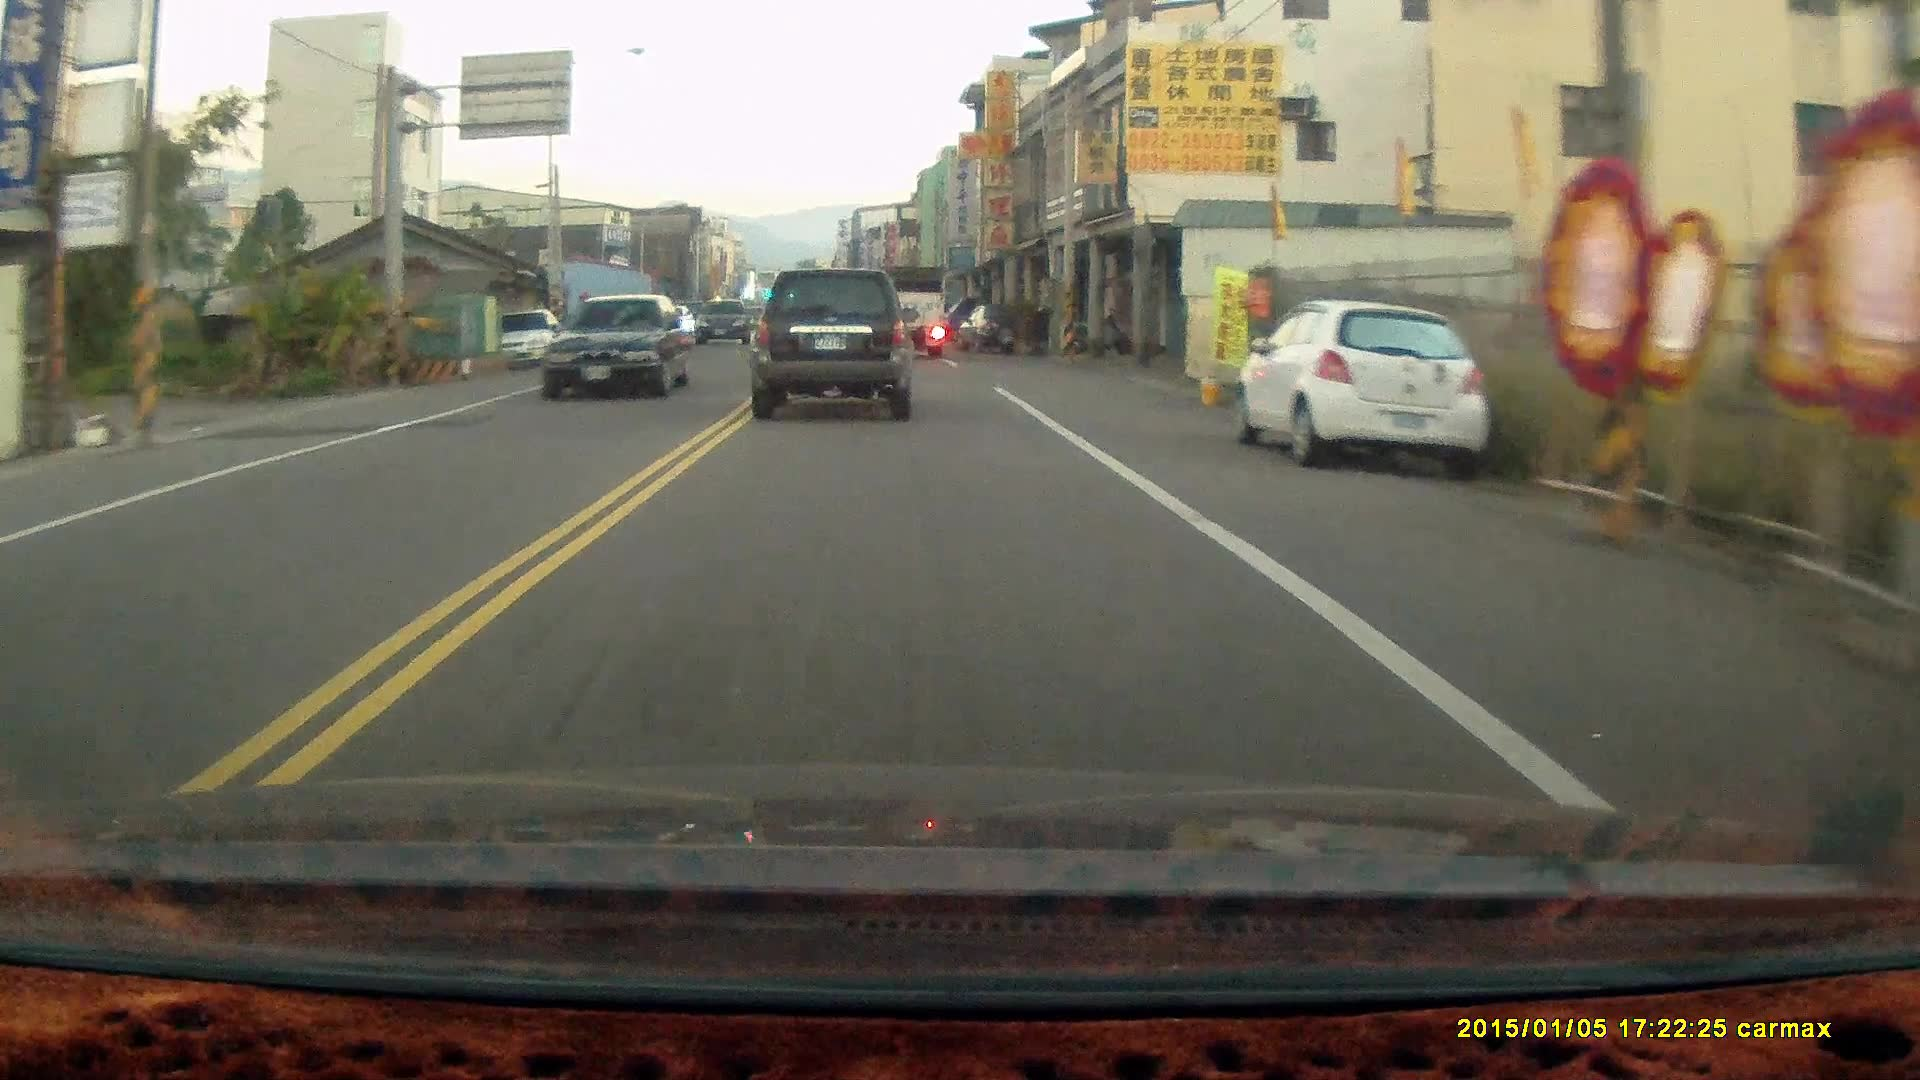vehicle: (1240, 301, 1489, 484), (746, 269, 918, 425), (541, 293, 702, 404), (876, 262, 952, 359), (483, 310, 567, 369), (694, 299, 754, 347)
